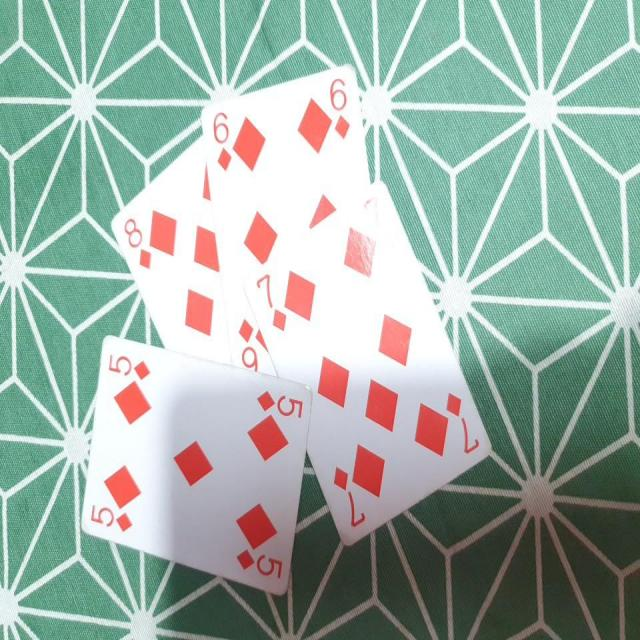5 Diamonds: (80, 333, 309, 594)
6 Diamonds: (199, 59, 370, 372)
7 Diamonds: (241, 181, 495, 546)
8 Diamonds: (110, 136, 235, 352)
